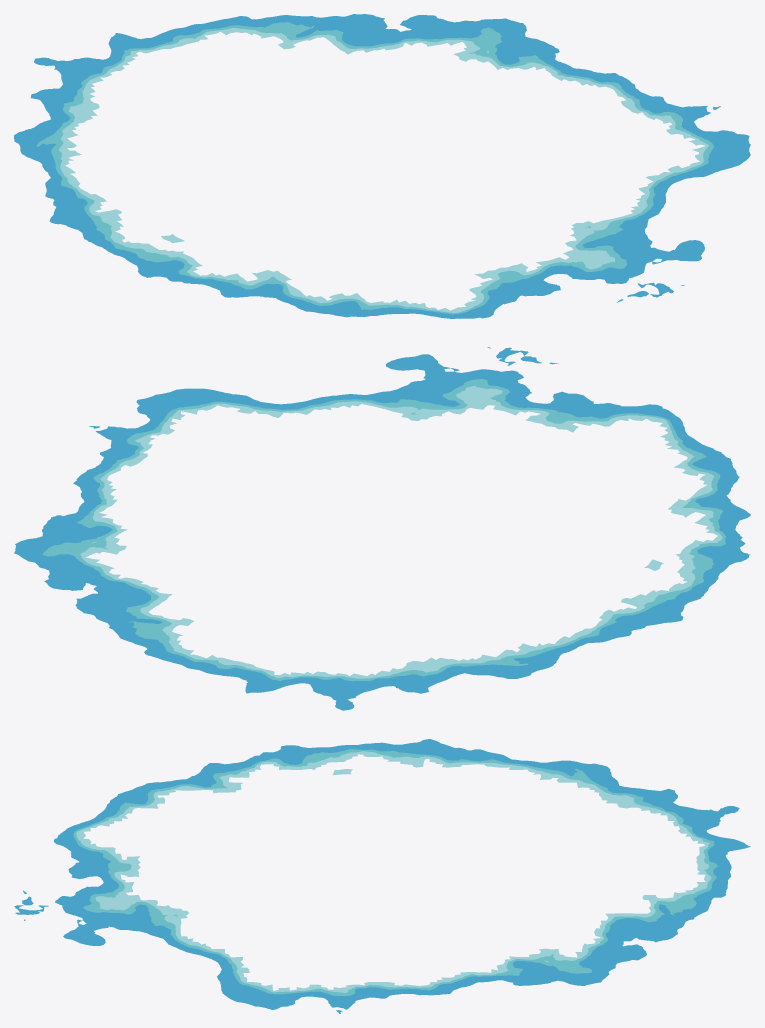
File: Isl-start6-Water.fbx
The picture shows the model from 3 angles, top to bottom: view 1: azimuth 30°, elevation 25°; view 2: azimuth 150°, elevation 25°; view 3: azimuth 270°, elevation 25°; orthographic projection. The views are drawn at different scales.
Visible parts, largest first — view 1: Isl-start6-Water; view 2: Isl-start6-Water; view 3: Isl-start6-Water.
Boxes of the visible parts, <box> form: Isl-start6-Water: <box>14,14,750,318</box>; Isl-start6-Water: <box>14,347,750,710</box>; Isl-start6-Water: <box>14,739,750,1013</box>.
Bounding box in the file's own units: 107 × 0 × 121.
